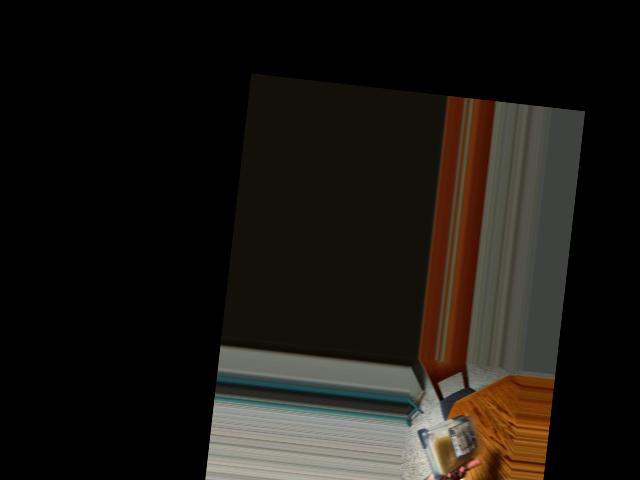cheese: (424, 413, 480, 478)
